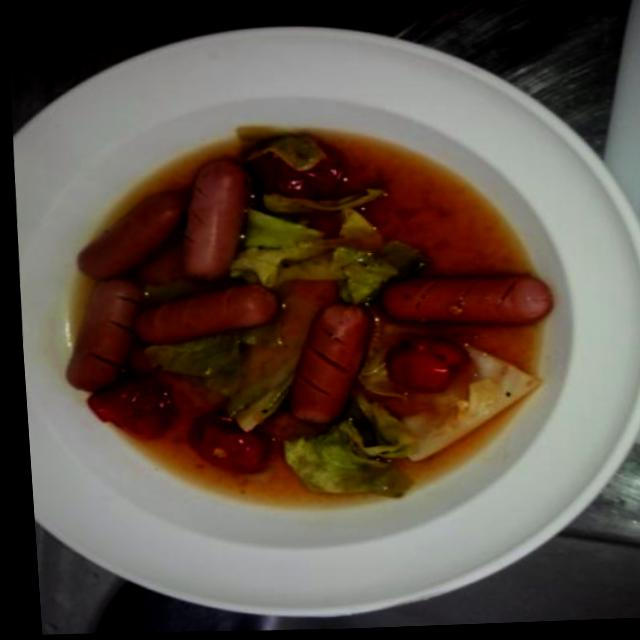汤锅炖物: (22, 104, 572, 545)
